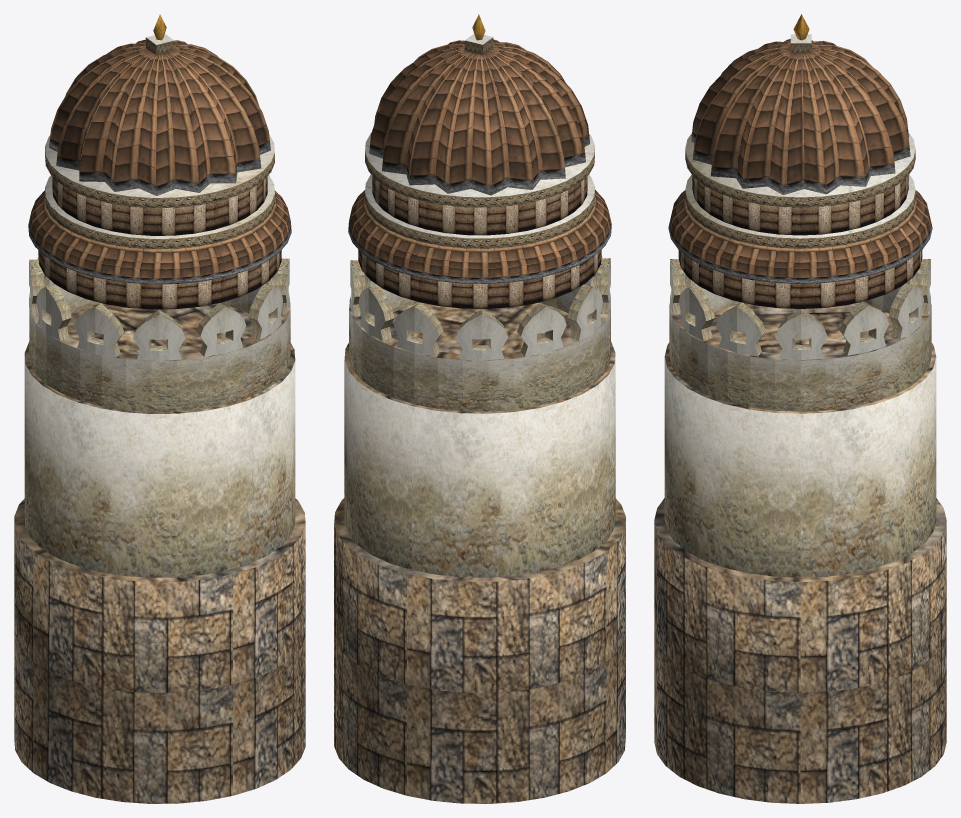
The model's file is wall_tower.dae.
3 renders of one model, left to right at view 1: azimuth 30°, elevation 25°; view 2: azimuth 150°, elevation 25°; view 3: azimuth 270°, elevation 25°, orthographic.
Parts seen in each view (by area): view 1: wall_tower; view 2: wall_tower; view 3: wall_tower.
Boxes of the visible parts, box(x1,y1,x2,y2) form: wall_tower: box(14, 14, 305, 803); wall_tower: box(334, 14, 625, 803); wall_tower: box(654, 14, 946, 803).
Bounding box in the file's own units: 9.53 × 9.53 × 26.21.
